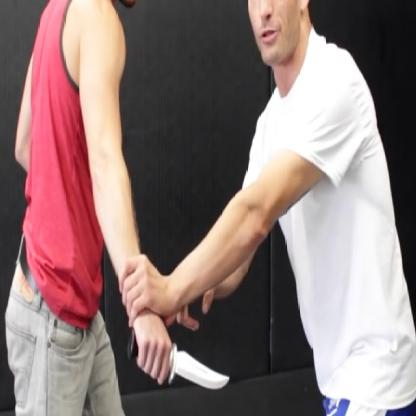knife: (126, 326, 236, 402)
